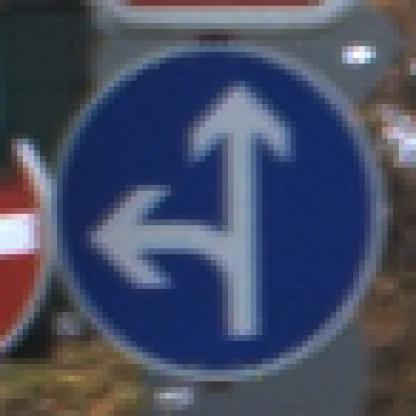Straight or Left: (41, 36, 383, 382)
